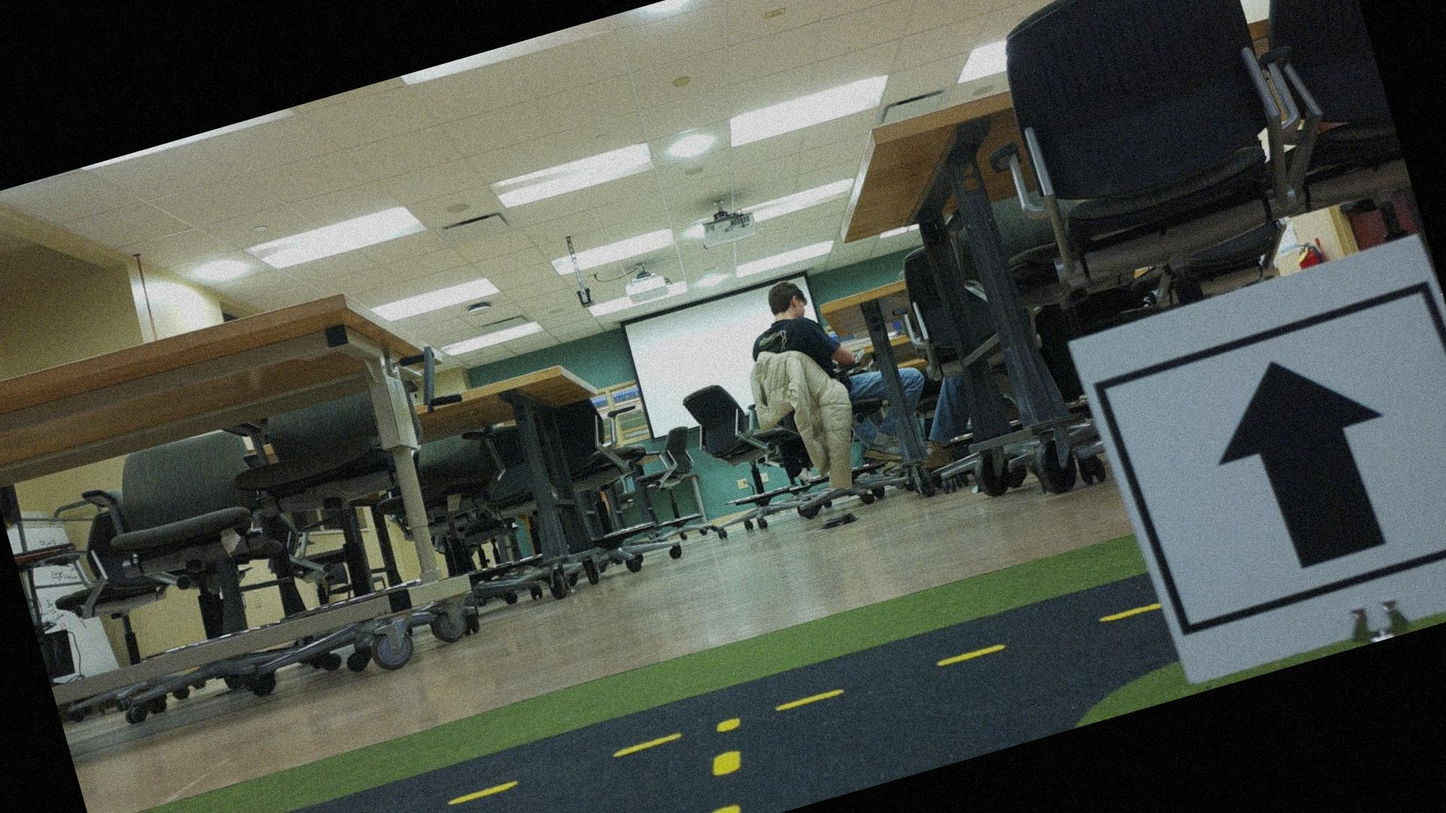gostraight: (1091, 244, 1445, 674)
yellowline: (110, 592, 1163, 812), (676, 710, 764, 812)
